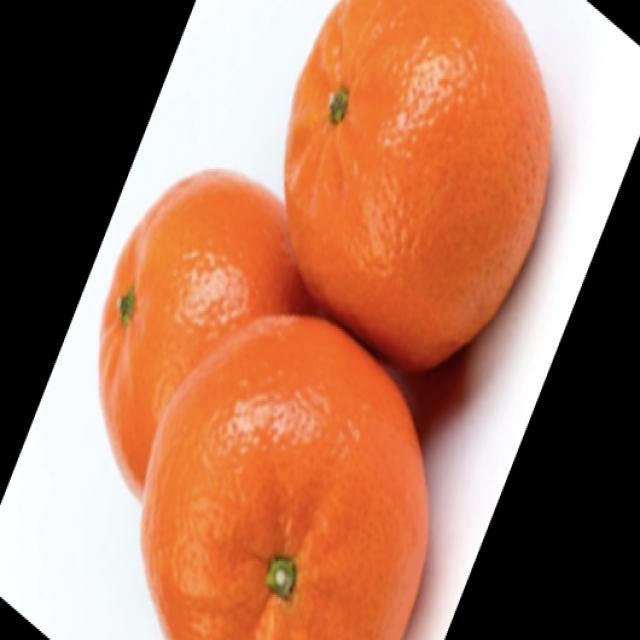fresh: (92, 3, 554, 640)
